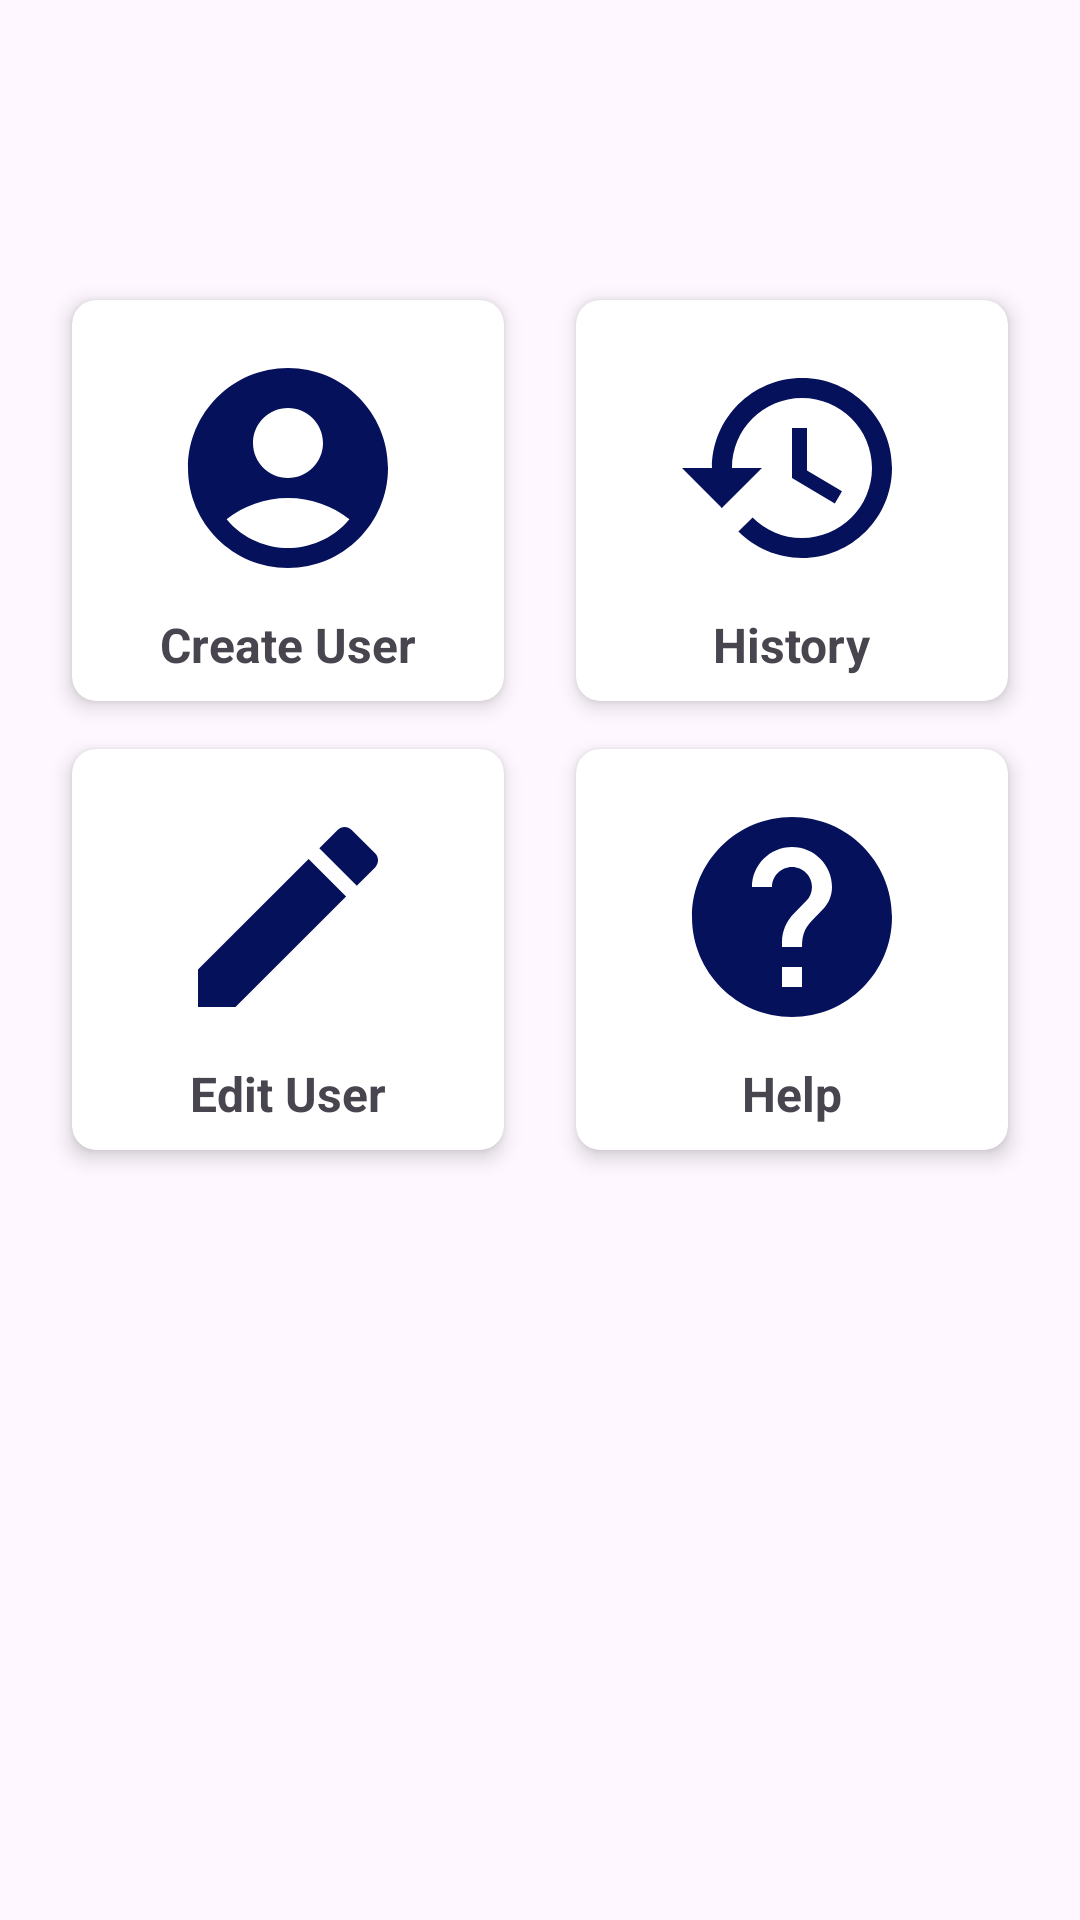

Named icons in this screenshot (1080x1920) and their bounding boxes, (x1, y1, x2, y2):
account circle: (187, 368, 388, 568)
